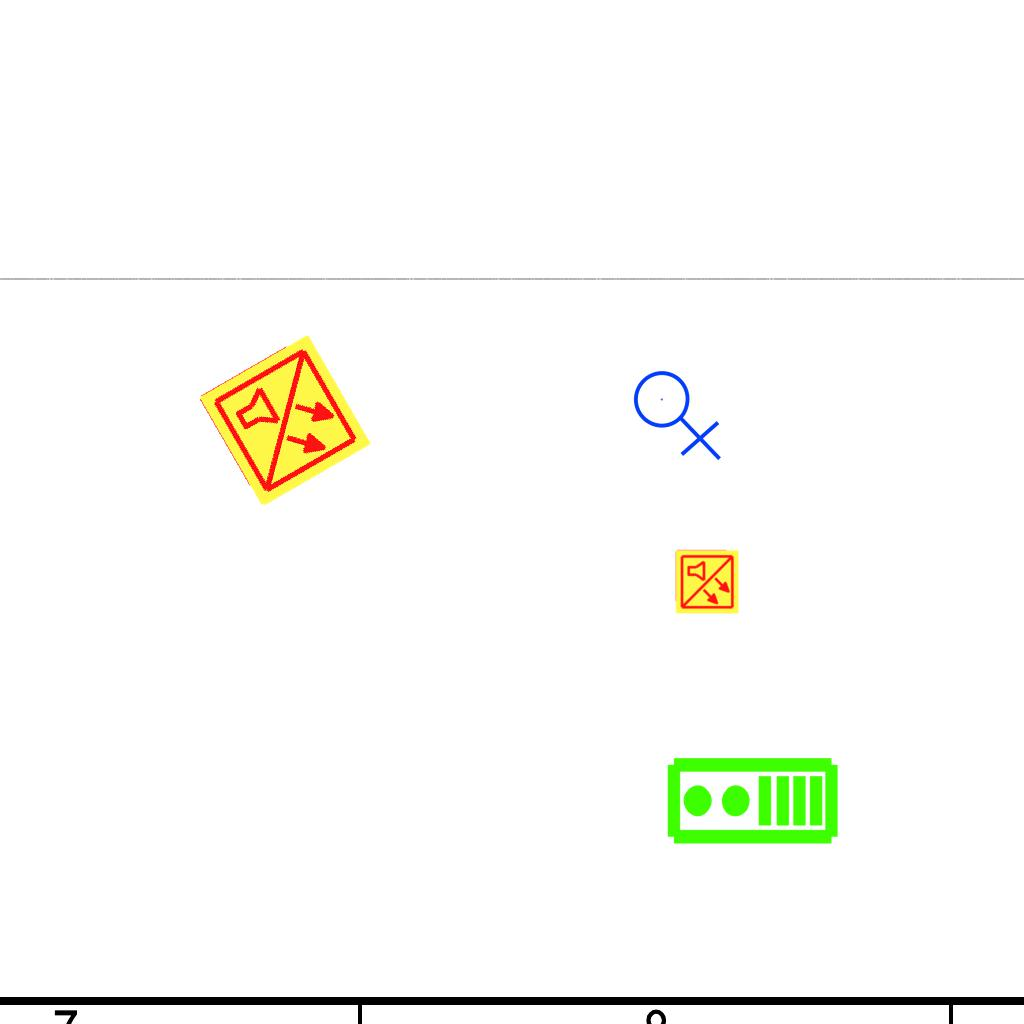Elektroanschluss_allgemein_230V_Geraeteanschlussdose_230V: (632, 362, 726, 461)
Gegensprechanlage_mit_Video: (664, 755, 840, 850)
OKW_Multisensormelder_(Kombination_optischer_Rauch-Kahlenmonoxid_Waerme-Melder): (194, 330, 376, 512), (674, 549, 740, 615)
